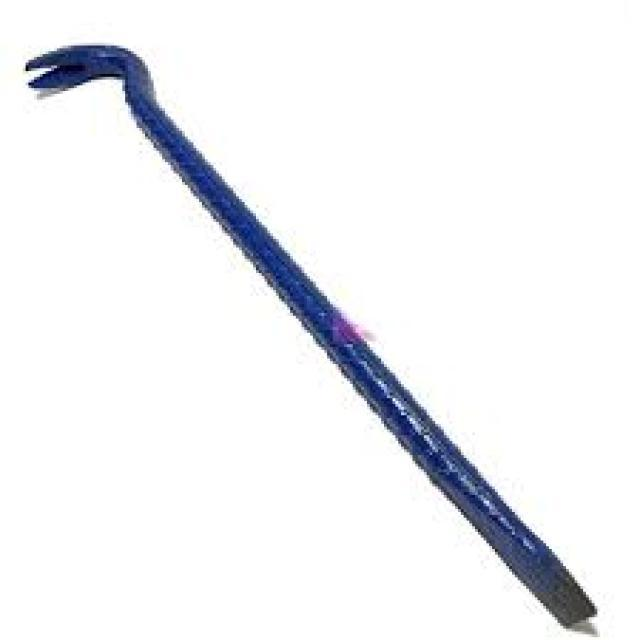Linggis: (15, 33, 606, 635)
